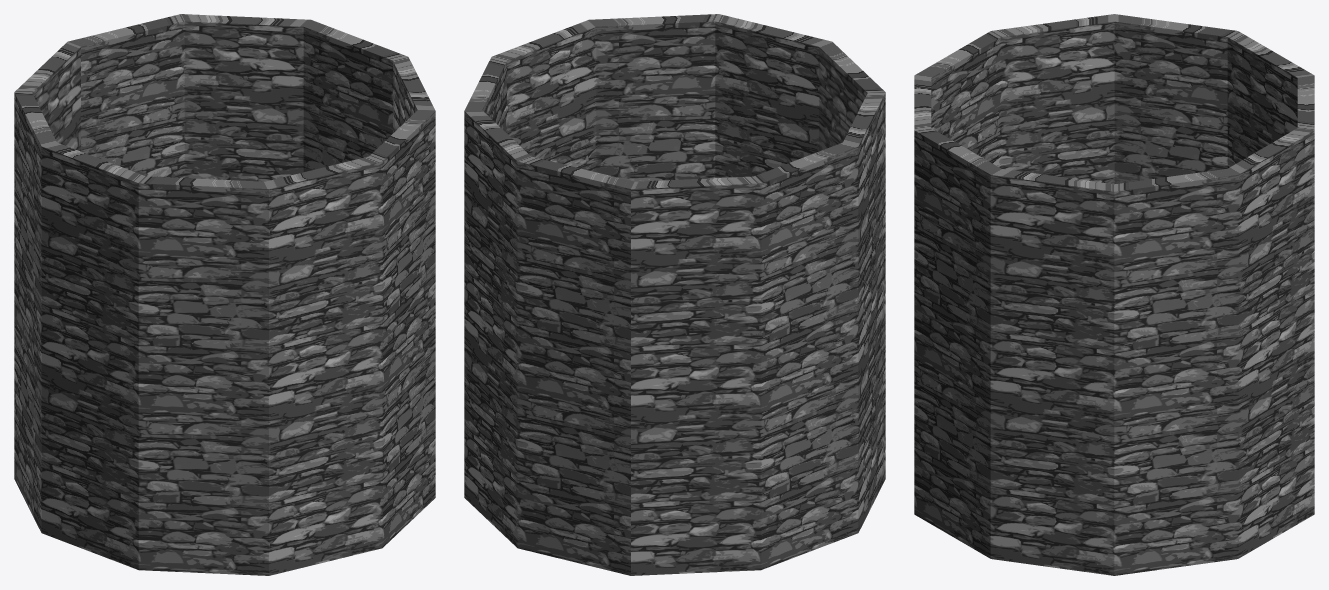
The model's file is stone_turret.fbx.
The picture shows the model from 3 angles, left to right: view 1: azimuth 30°, elevation 25°; view 2: azimuth 150°, elevation 25°; view 3: azimuth 270°, elevation 25°; orthographic projection.
Visible parts, largest first — view 1: pPipe3; view 2: pPipe3; view 3: pPipe3.
Boxes of the visible parts, box(x1,y1,x2,y2) form: pPipe3: box(14, 14, 435, 575); pPipe3: box(464, 14, 885, 575); pPipe3: box(914, 14, 1314, 575).
Bounding box in the file's own units: 47.4 × 47.74 × 45.08.
1 material, 1 textured.
